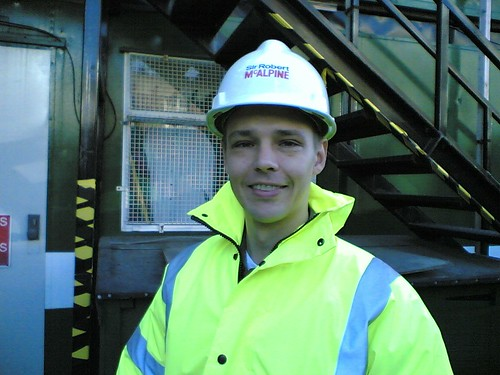person hardhat: (98, 40, 455, 369)
